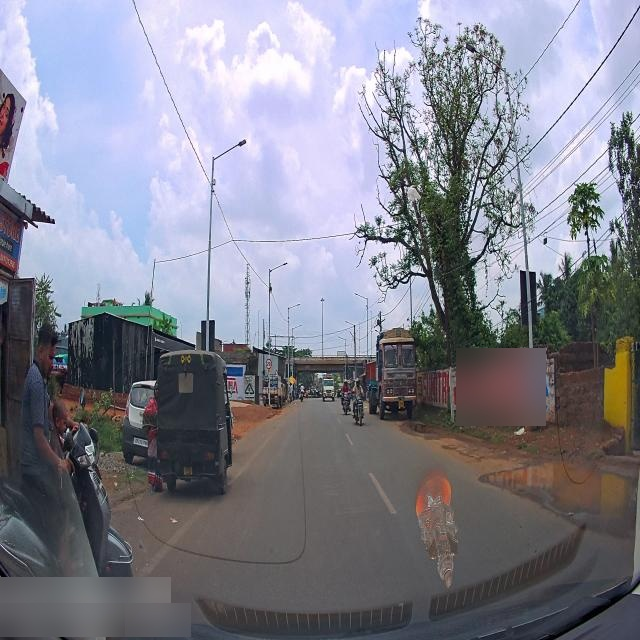pothole: (474, 457, 629, 534), (403, 412, 452, 446)
